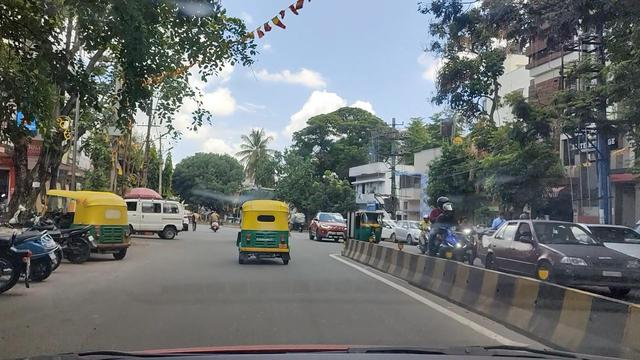LMV: (54, 190, 130, 260), (241, 199, 288, 260), (125, 200, 186, 236)
